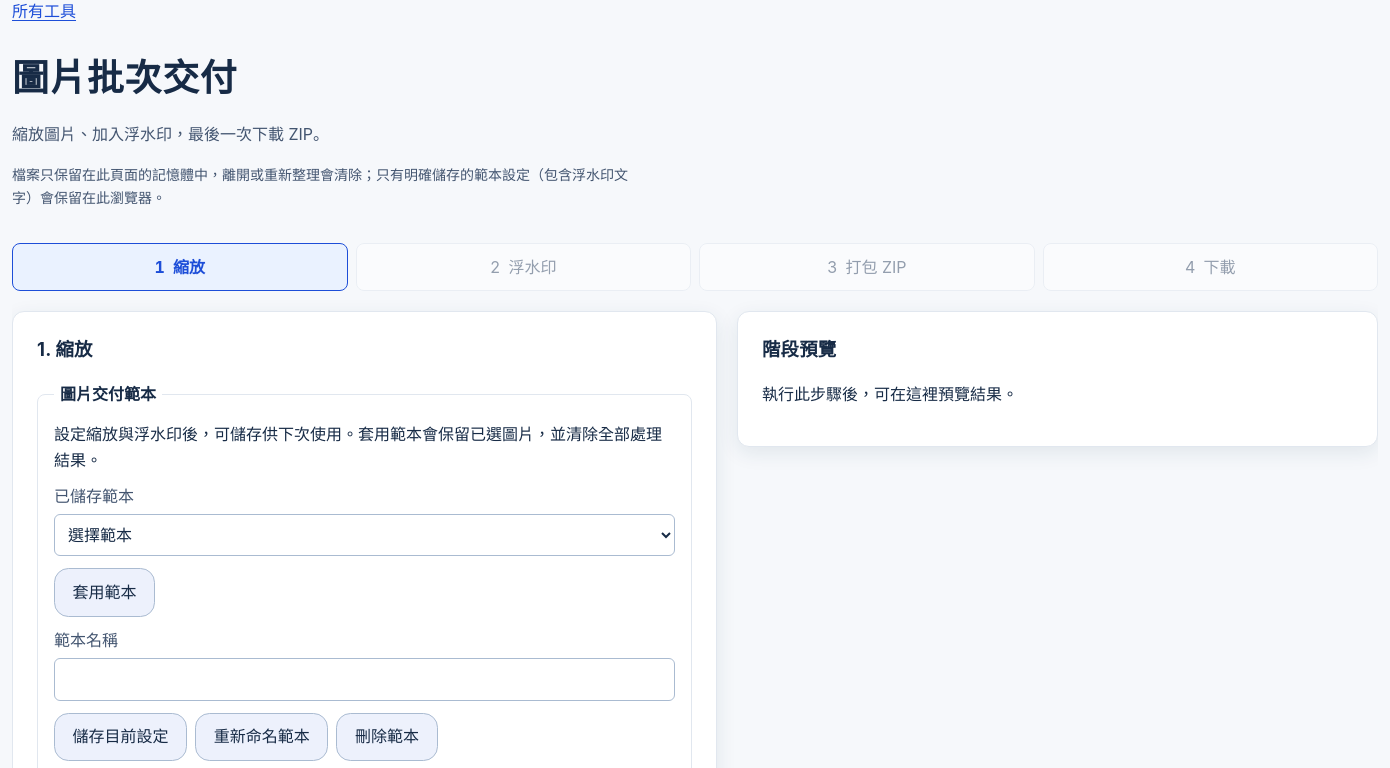
provides Chinese template controls and preserves templates when starting over
The image size is (1390, 768).
Select "Shop photos" in the dropdown labelled "已儲存範本" at [364, 535], box [54,514,675,556]
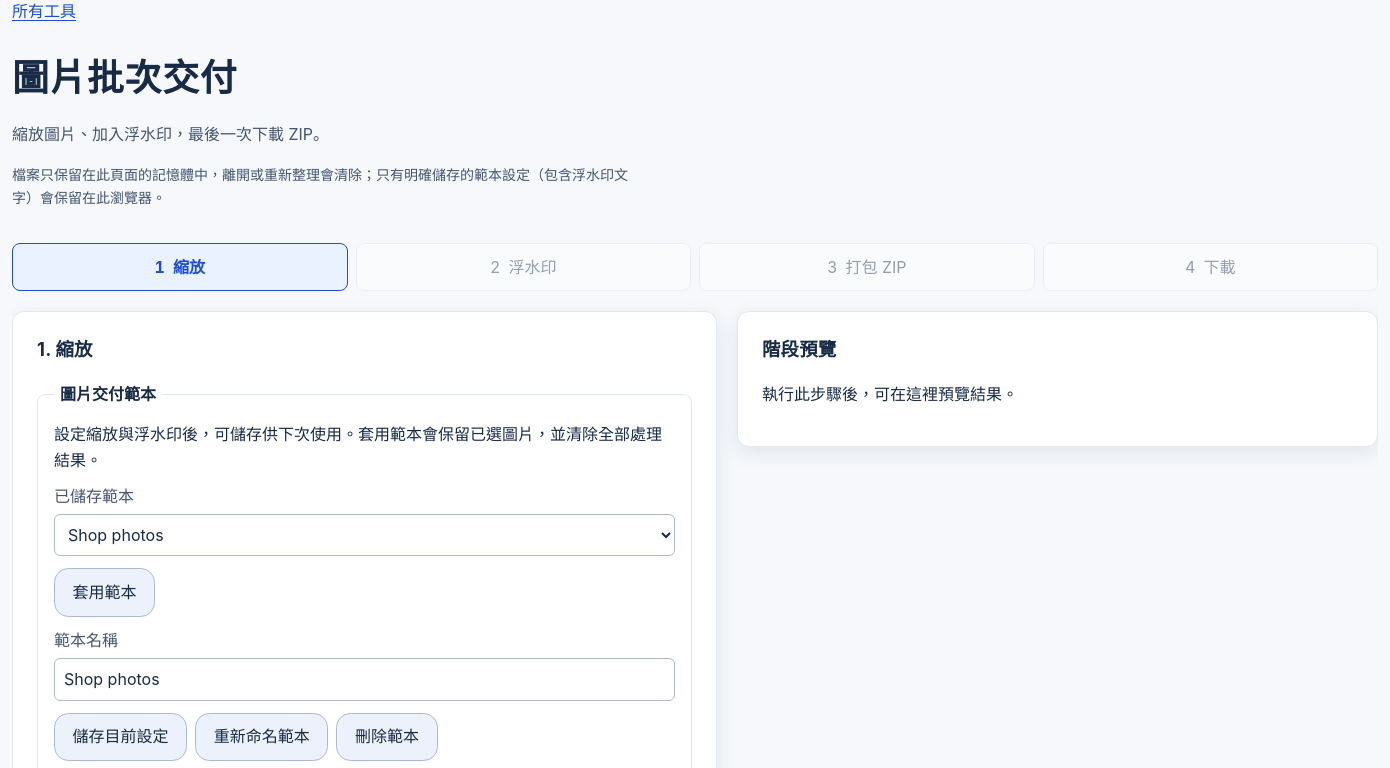
Click the button "套用範本" at [105, 592], box [54,568,155,617]
(page scrolled)
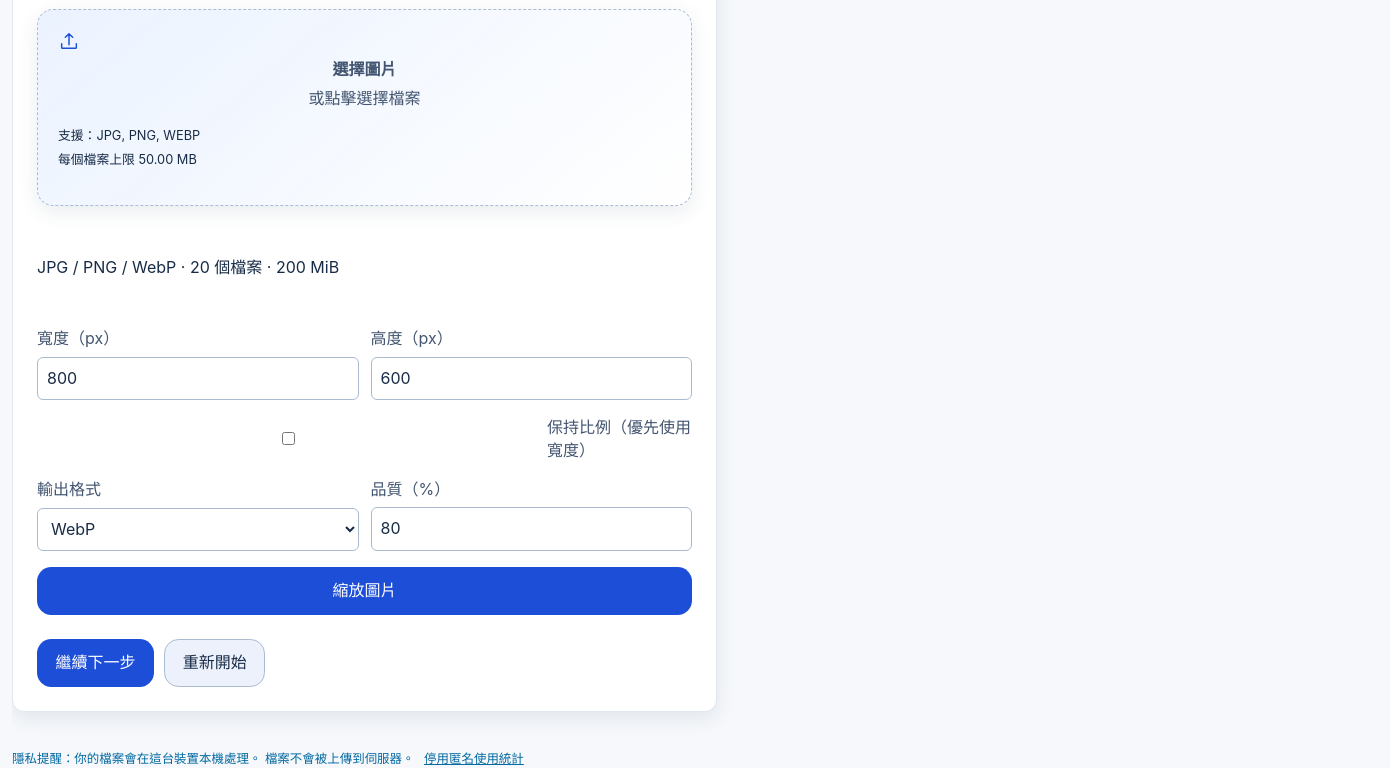
Now the number field labelled "寬度（px）" holds "800", box [37,357,358,400]
Click the button "重新開始" at [215, 663], box [164,639,265,687]
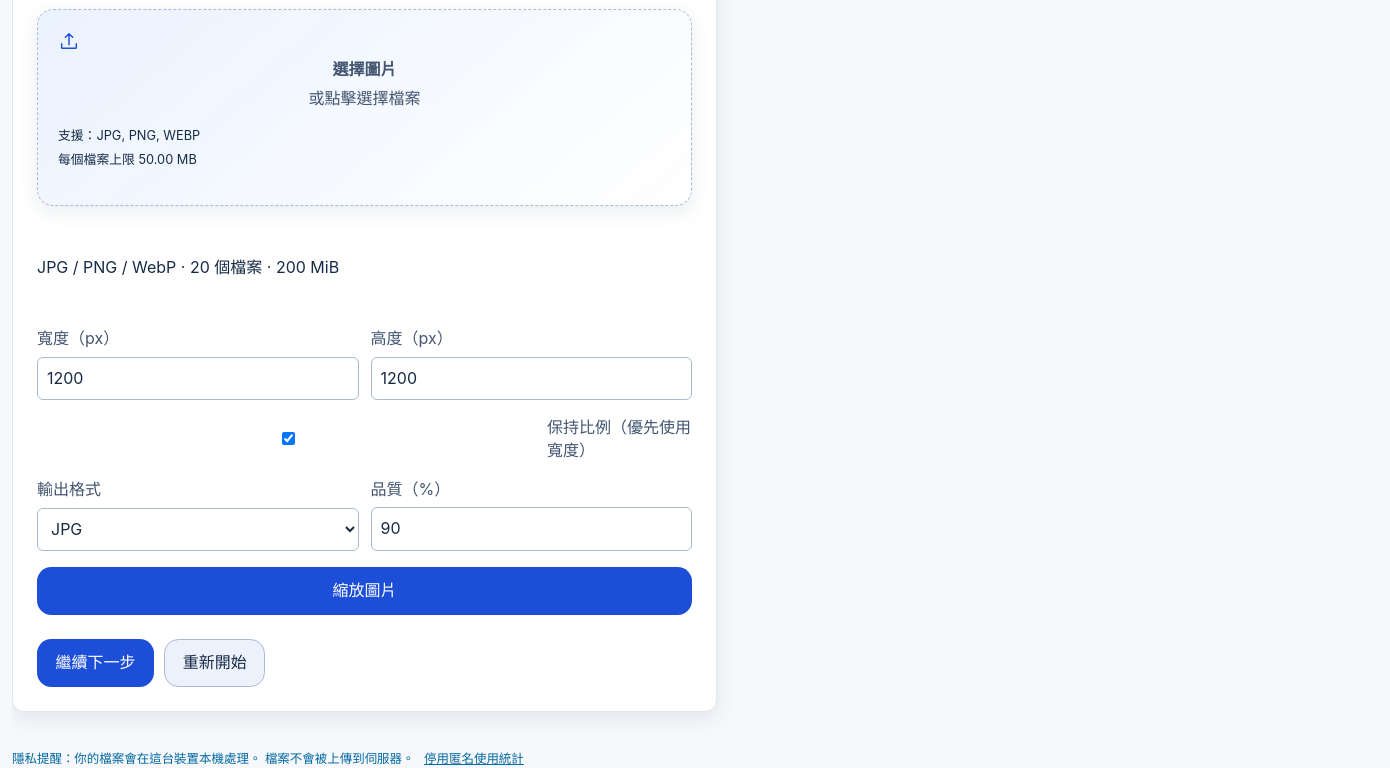
Now the number field labelled "寬度（px）" holds "1200", box [37,357,358,400]
